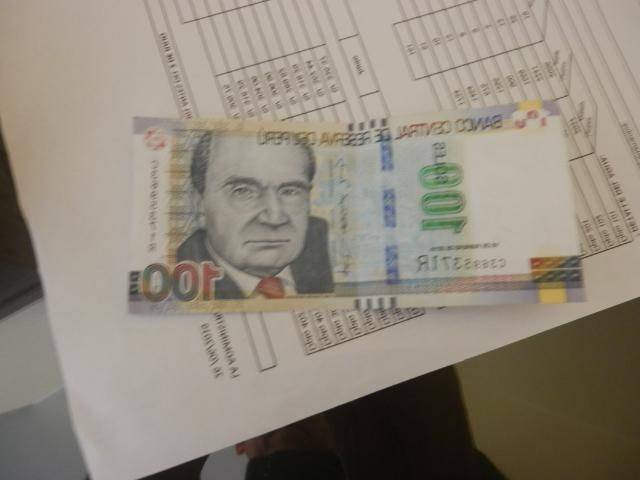B100: (129, 105, 587, 310)
